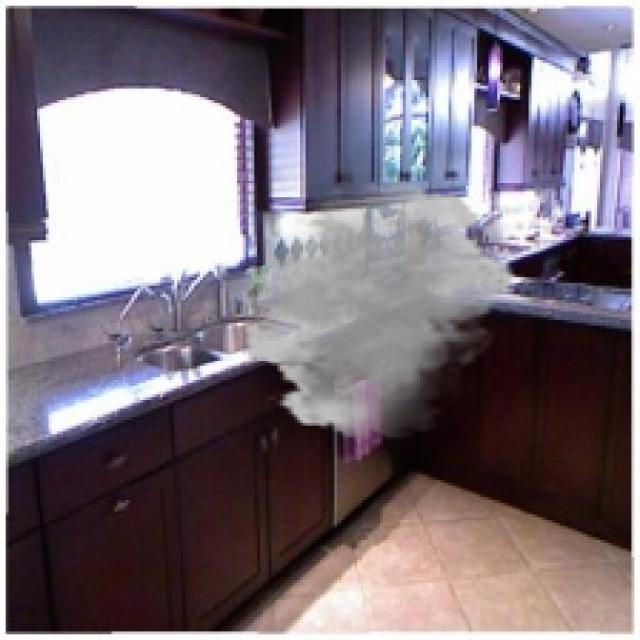Smoke: (242, 177, 518, 443)
